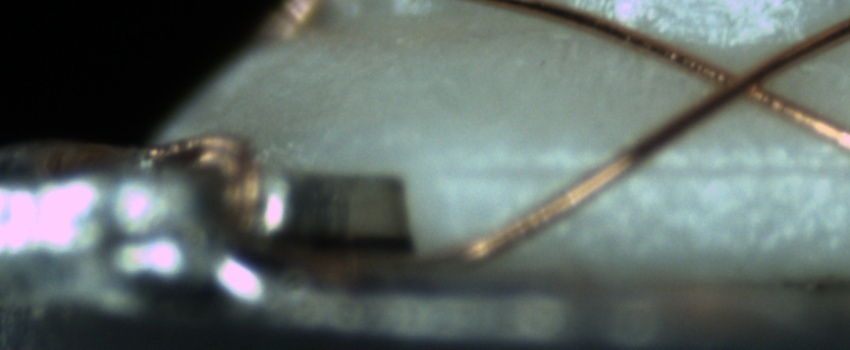CL: (691, 45, 793, 111)
DL: (433, 136, 849, 198)
TE: (145, 126, 261, 245)
